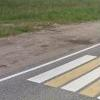crosswalks: (26, 52, 100, 99)
